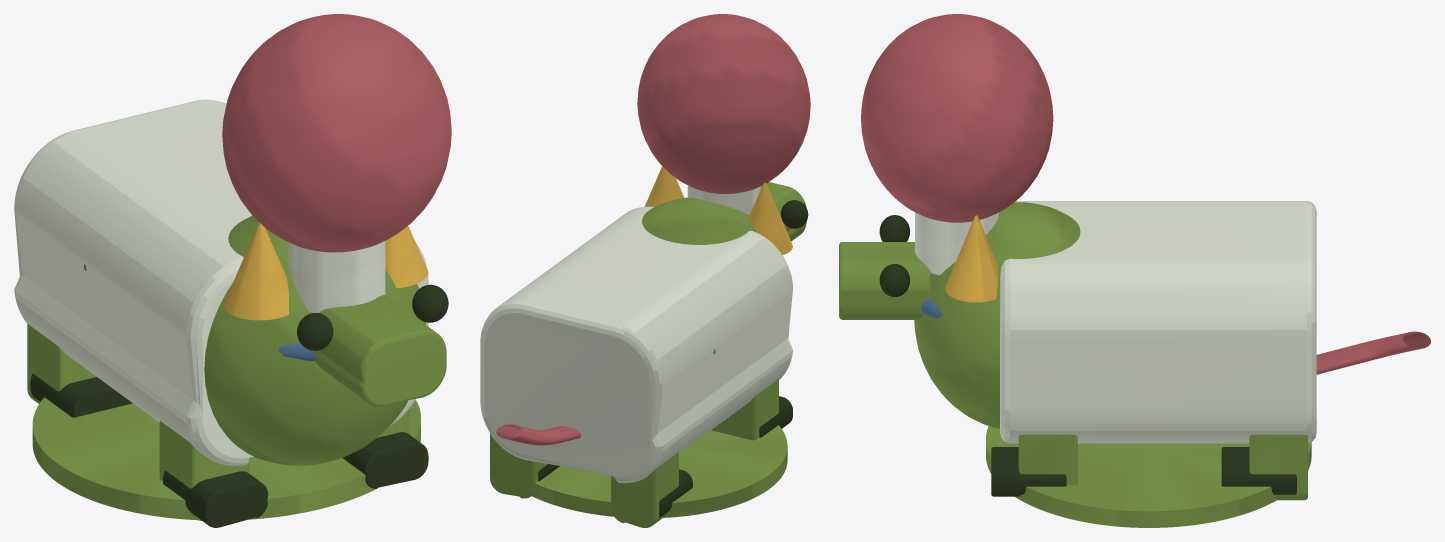
Rendered from 0832_两栖动物图鉴_红眼树蛙.glb.
3 views of the same model, side by side, from view 1: azimuth 30°, elevation 25°; view 2: azimuth 150°, elevation 25°; view 3: azimuth 270°, elevation 25° (orthographic). The views are drawn at different scales.
Parts seen in each view (by area): view 1: card_0832; view 2: card_0832; view 3: card_0832.
Boxes of the visible parts, <box> form: card_0832: <box>14,14,451,527</box>; card_0832: <box>480,14,810,527</box>; card_0832: <box>839,14,1430,527</box>.
Size of the model in its own units: 0.7099 by 1 by 1.23.
